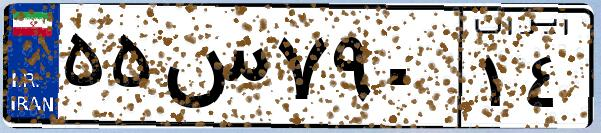0: (385, 28, 445, 110)
1: (475, 38, 525, 113)
4: (525, 38, 570, 115)
5: (57, 26, 110, 100), (110, 28, 158, 98)
7: (270, 28, 330, 110)
9: (330, 28, 385, 110)
س: (158, 20, 270, 120)
